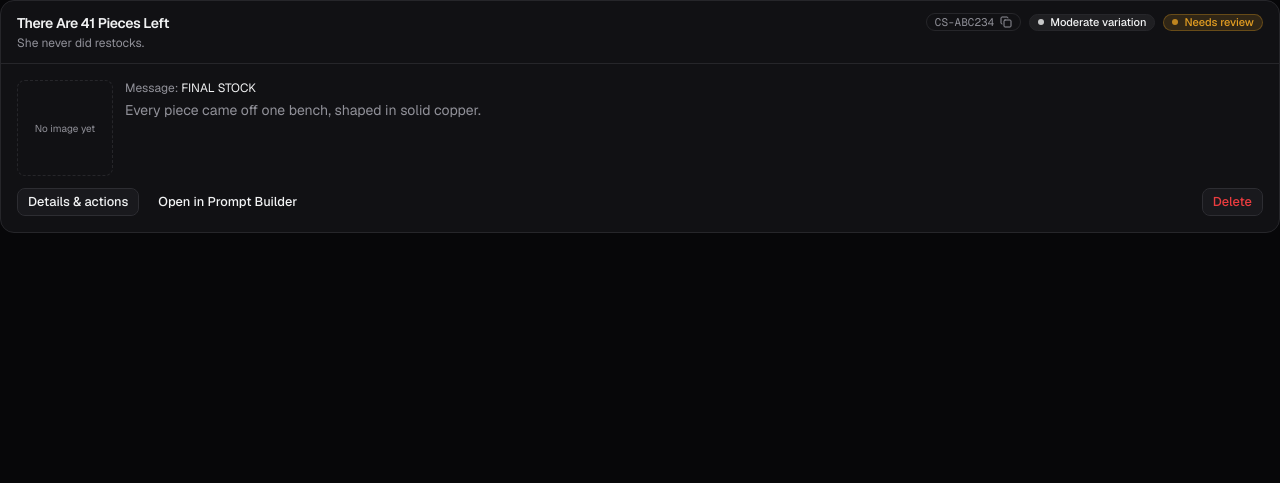
Concepts — concept card › reveals the full concept and its actions on request
The image size is (1280, 483).
Click the button "Details & actions": (78, 202) [17,188,139,216]
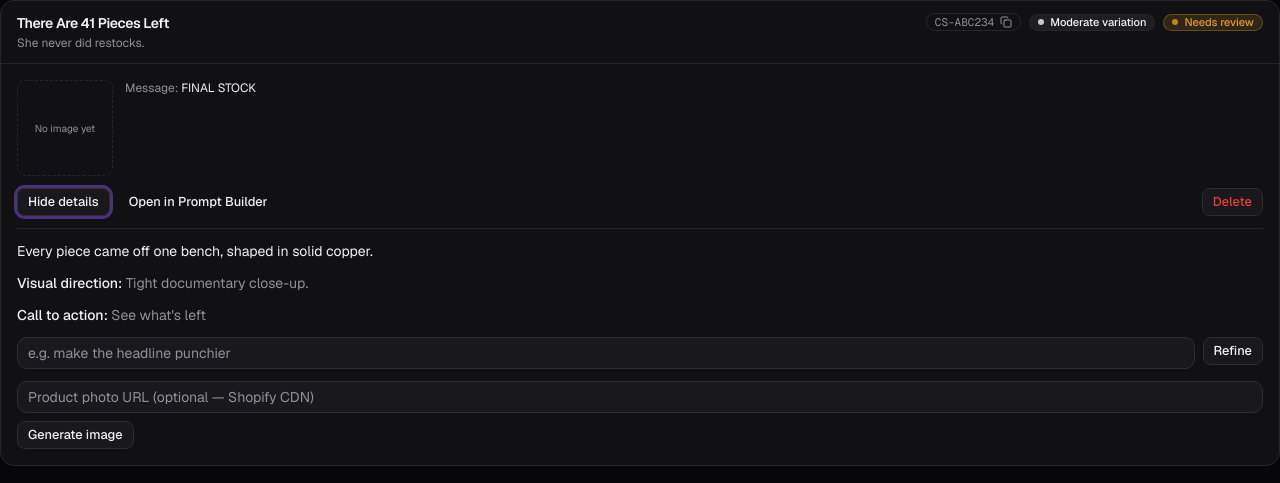
Expected: the text "Visual direction:" is shown, [17,274,122,292]
Expected: the text "Call to action:" is shown, [17,306,108,324]
Expected: the button "Hide details" is shown, [17,188,110,216]
